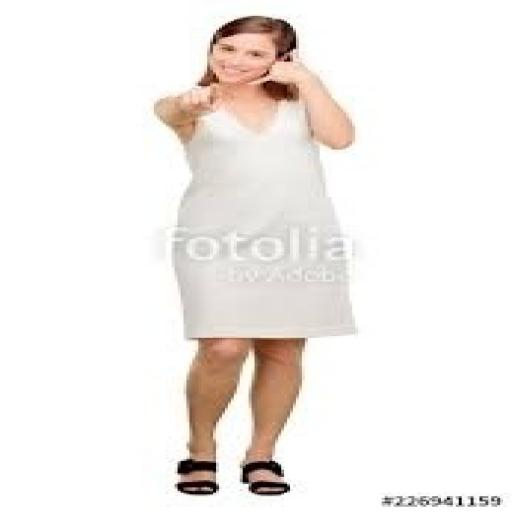calling: (148, 14, 361, 496)
